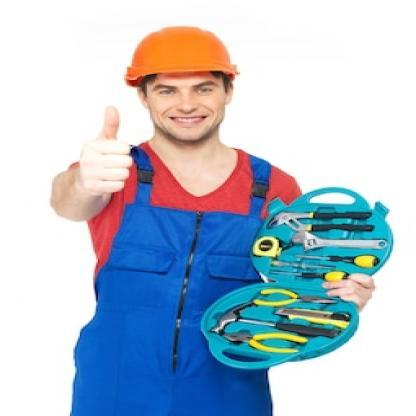thumb_up: (71, 102, 142, 198)
